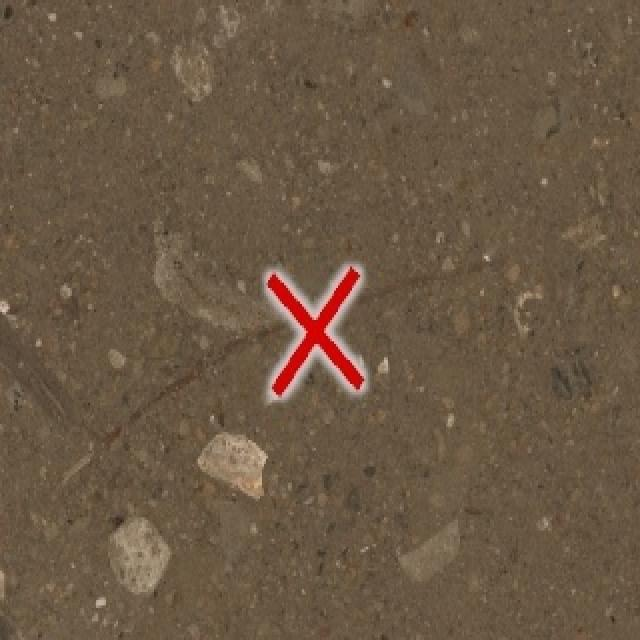x_marker: (267, 268, 363, 393)
